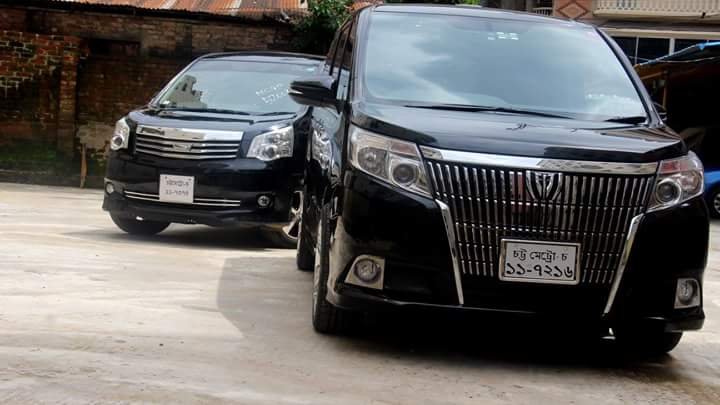registration_plate: (504, 242, 576, 280), (159, 175, 194, 203)
